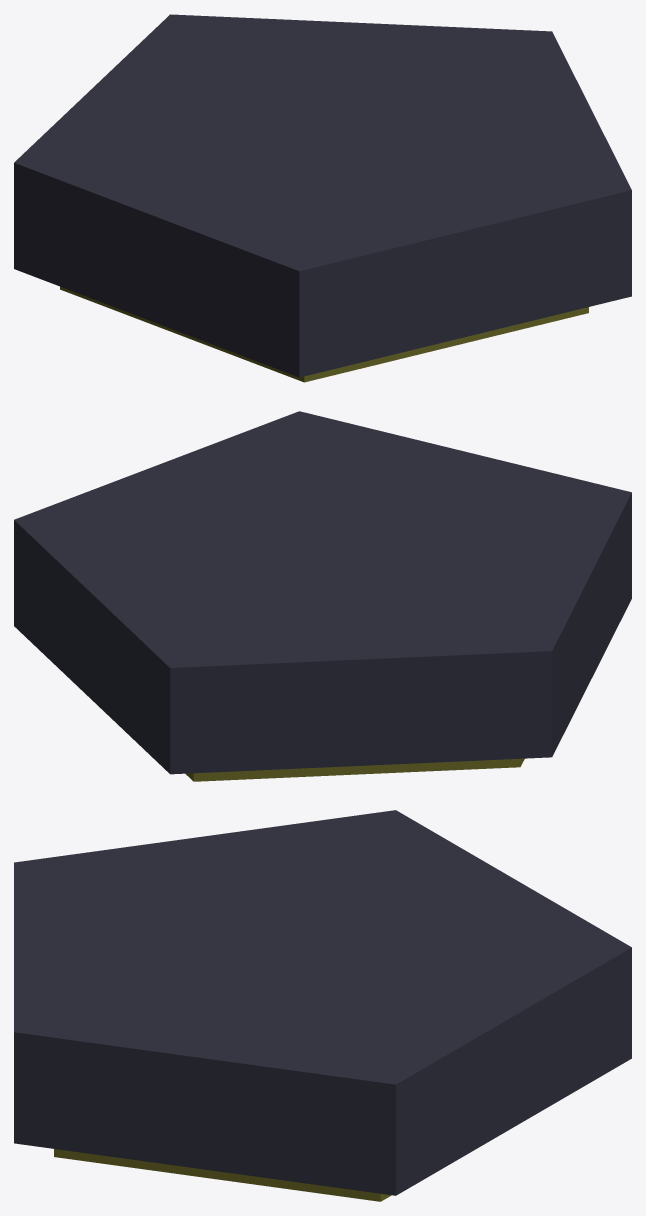
The model's file is CielingLight.glb.
3 renders of one model, top to bottom at view 1: azimuth 30°, elevation 25°; view 2: azimuth 150°, elevation 25°; view 3: azimuth 270°, elevation 25°, orthographic. The views are drawn at different scales.
Parts seen in each view (by area): view 1: Cylinder; view 2: Cylinder; view 3: Cylinder.
Boxes of the visible parts, box(x1,y1,x2,y2) form: Cylinder: box(14, 14, 631, 382); Cylinder: box(14, 411, 631, 781); Cylinder: box(14, 810, 631, 1201).
Size of the model in its own units: 0.6118 by 0.1839 by 0.5819.
Materials: 1 (1 with a texture image).
